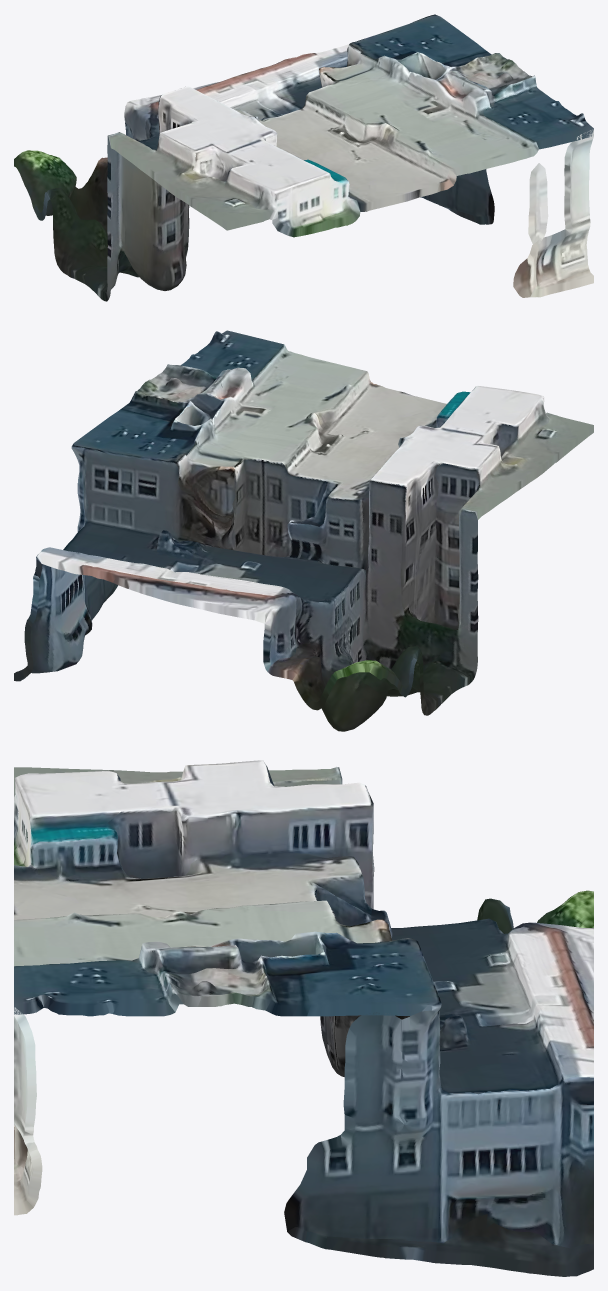
The model's file is z20-167743-405196-h0-yup-uvflip-v3-world.glb.
3 renders of one model, top to bottom at view 1: azimuth 30°, elevation 25°; view 2: azimuth 150°, elevation 25°; view 3: azimuth 270°, elevation 25°, orthographic. The views are drawn at different scales.
Bounding box in the file's own units: 30.16 × 16.92 × 30.32.
1 material, 1 textured.
